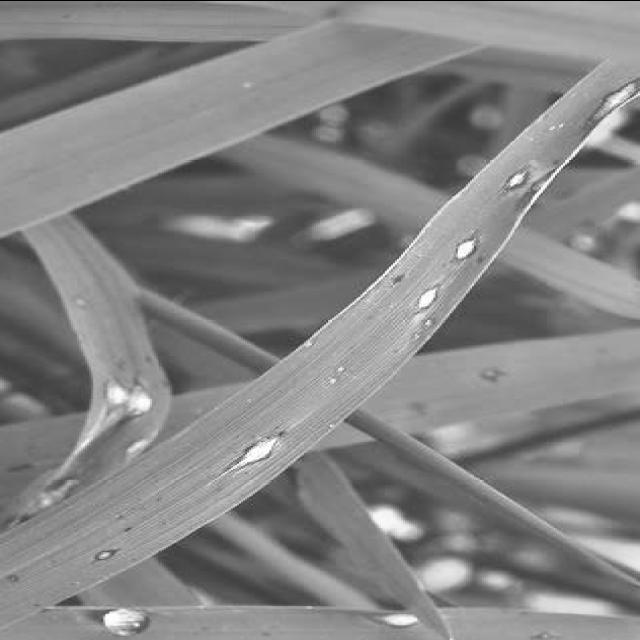Leaf_Blast: (237, 425, 298, 483), (596, 68, 640, 132), (356, 601, 434, 635), (506, 162, 546, 210), (412, 280, 454, 314), (454, 232, 498, 264)
